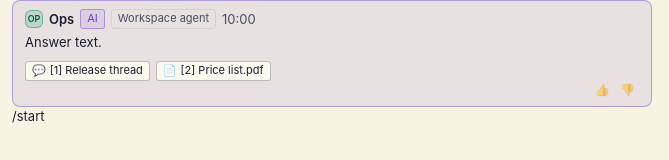
Test: a chat source chip opens /c/<chat>?m=<message>, an agent source chip opens the knowledge item
Click the button "💬 [1] Release thread" at (87, 71), box [25,61,150,81]
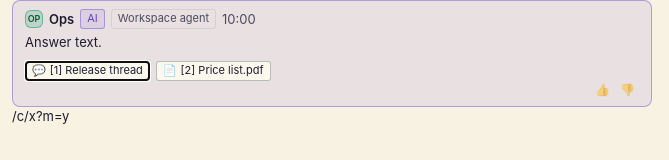
Check: the text named "location" reads "/c/x?m=y", box [12,108,69,124]
Click the button "📄 [2] Price list.pdf" at (213, 71), box [156,61,270,81]
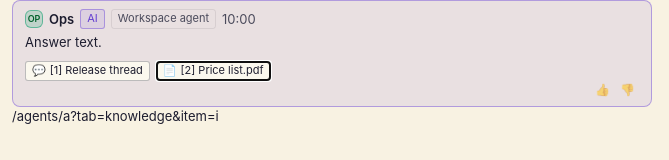
Check: the text named "location" reads "/agents/a?tab=knowledge&item=i", box [12,108,219,124]
